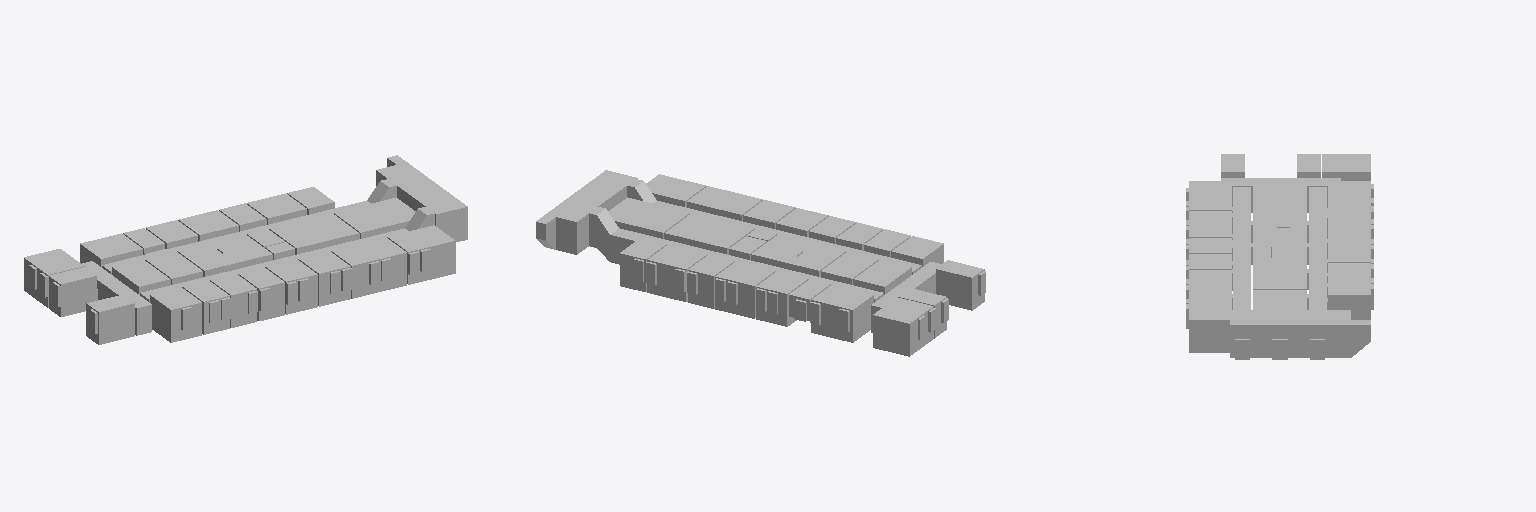
Rendered from AE_Quads_Control.obj.
The picture shows the model from 3 angles: view 1: azimuth 30°, elevation 25°; view 2: azimuth 150°, elevation 25°; view 3: azimuth 270°, elevation 25°; orthographic projection.
Size of the model in its own units: 1734 by 192 by 744.